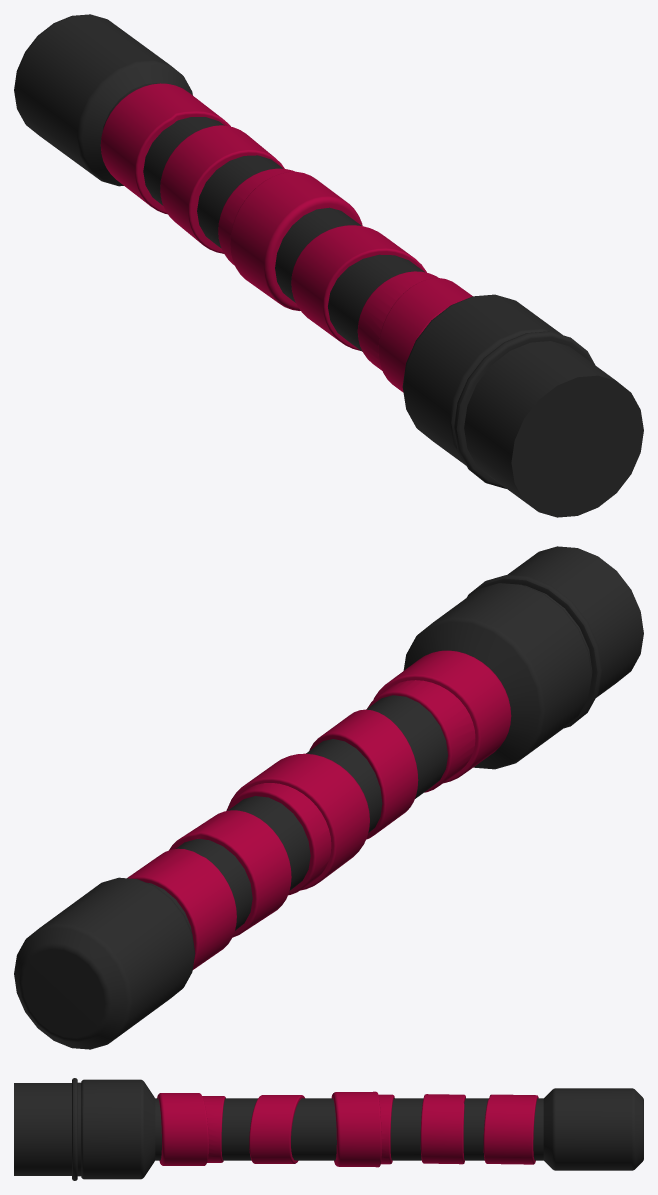
The model's file is SM_Sword_Handle_V6.fbx.
3 renders of one model, top to bottom at view 1: azimuth 30°, elevation 25°; view 2: azimuth 150°, elevation 25°; view 3: azimuth 270°, elevation 25°, orthographic. The views are drawn at different scales.
Parts seen in each view (by area): view 1: SM_Sword_Handle_V6; view 2: SM_Sword_Handle_V6; view 3: SM_Sword_Handle_V6.
Part boxes in pixels (x1=…): SM_Sword_Handle_V6: x1=14, y1=14, x2=643, y2=517; SM_Sword_Handle_V6: x1=14, y1=546, x2=643, y2=1049; SM_Sword_Handle_V6: x1=14, y1=1078, x2=643, y2=1180.
Size of the model in its own units: 5.19 by 5.19 by 31.57.
